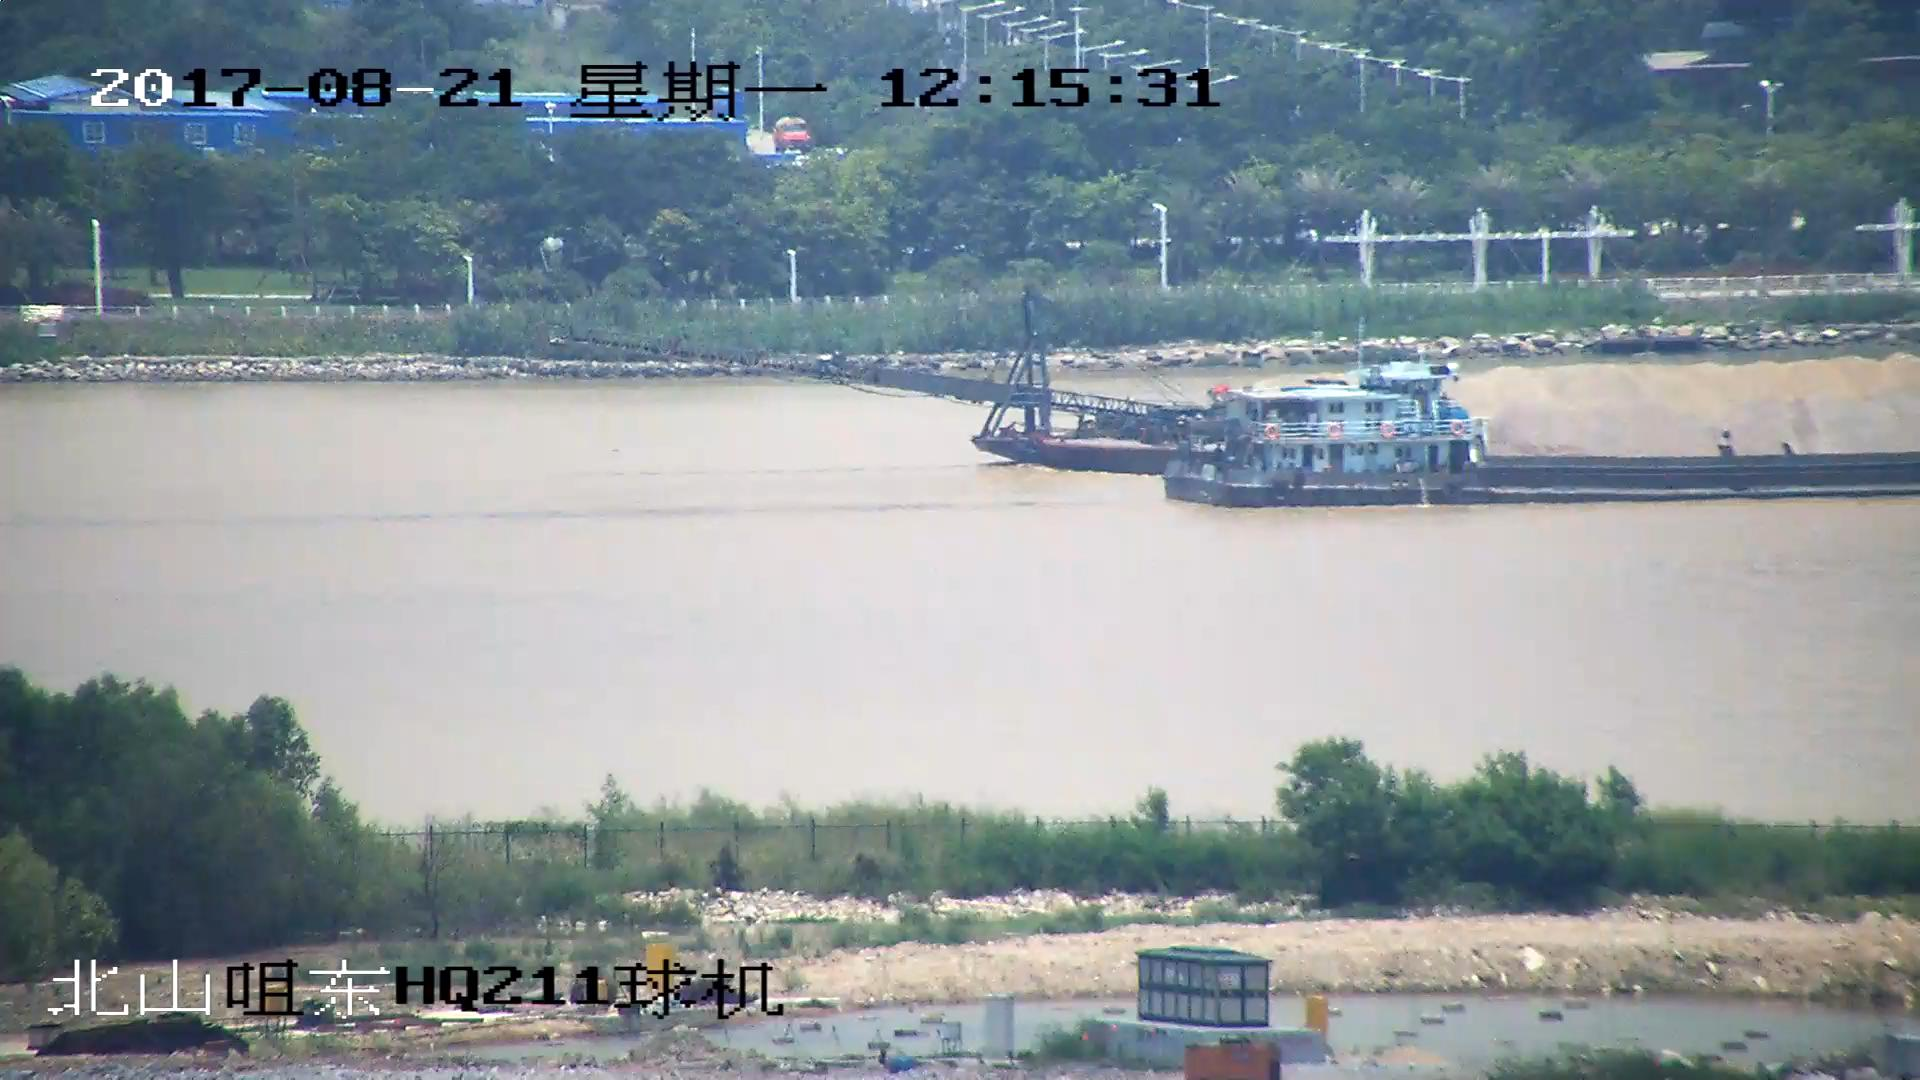ore carrier: (552, 306, 1919, 474), (1162, 386, 1920, 503)
